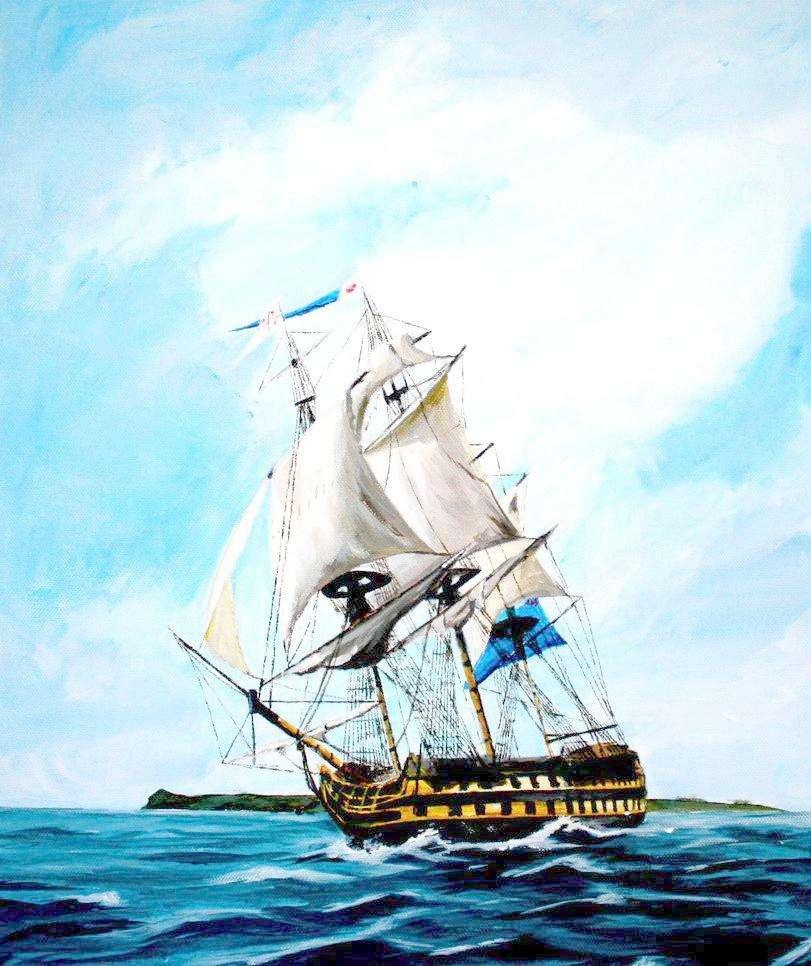fanchuan: (168, 253, 674, 843)
